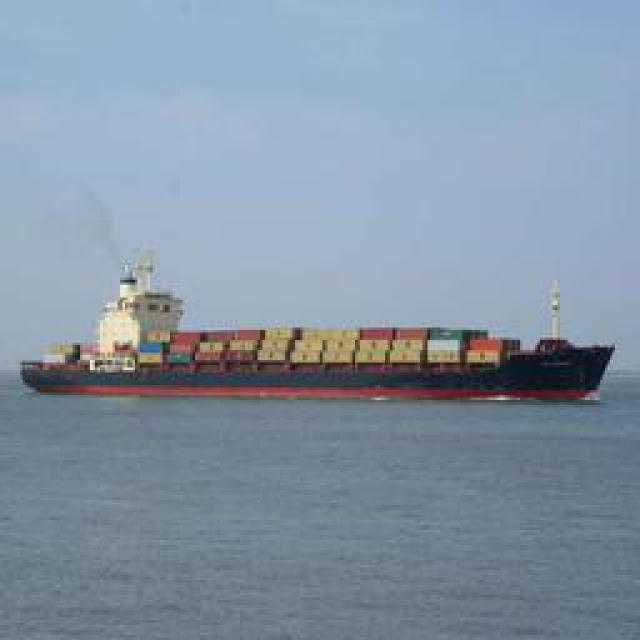Ship: (16, 288, 611, 403)
